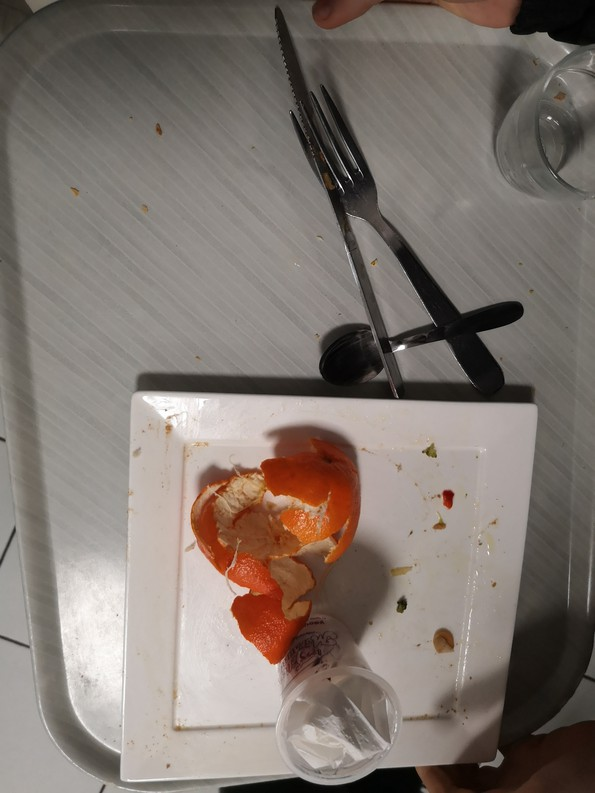cup: (502, 41, 595, 201)
cutlery: (250, 11, 530, 396)
orga: (188, 448, 363, 670)
trash: (275, 615, 409, 780)
